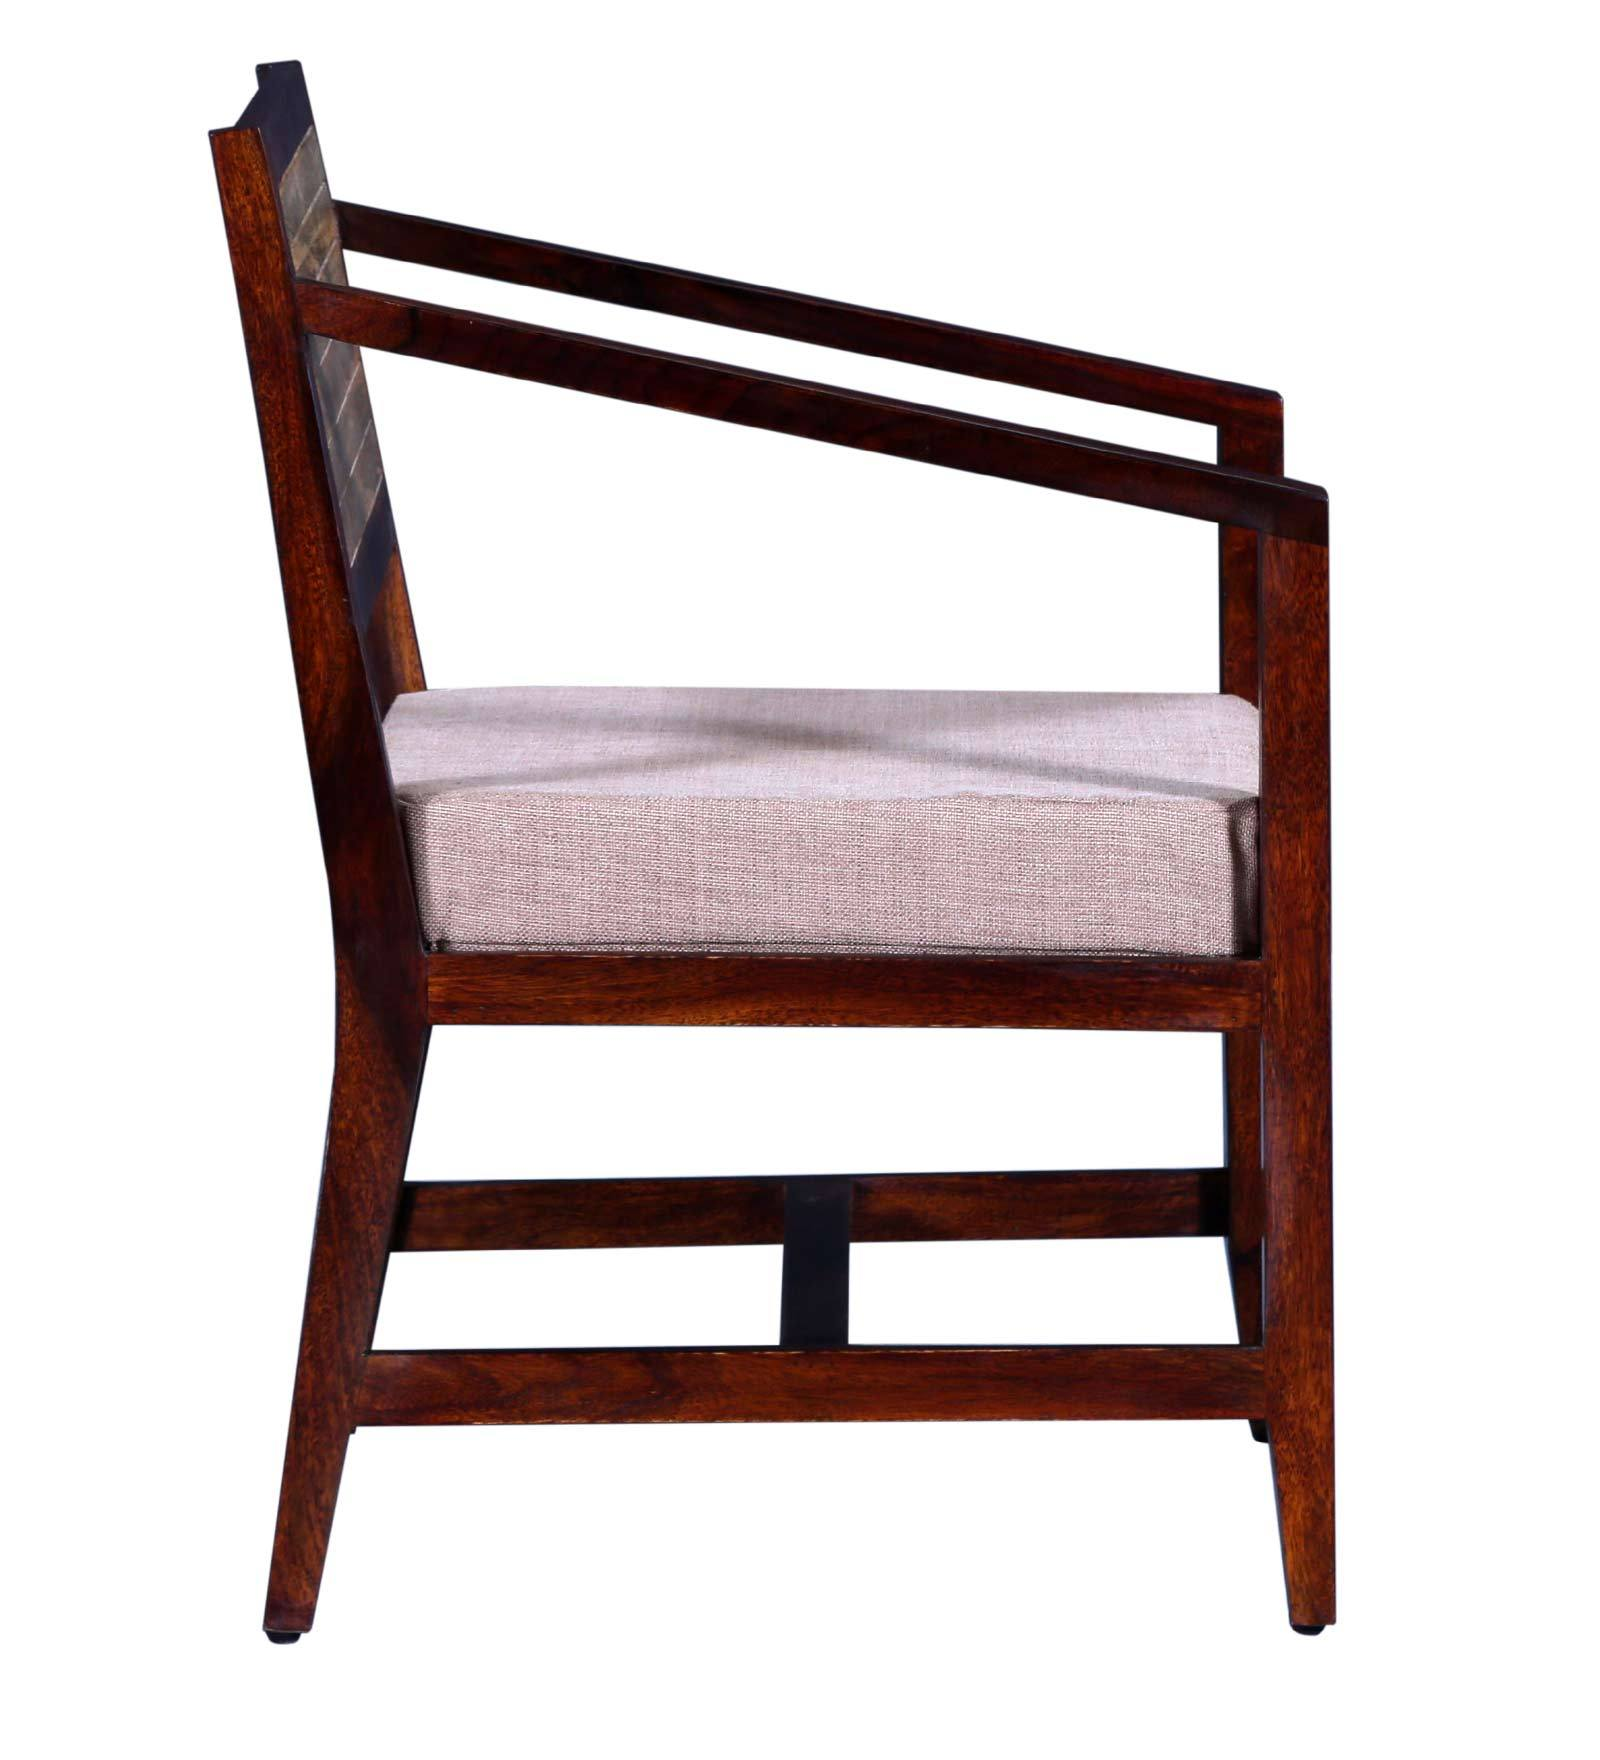Anitz Arm Chair in Dual Tone Finish by Woodsworth: (146, 69, 1415, 1702)
